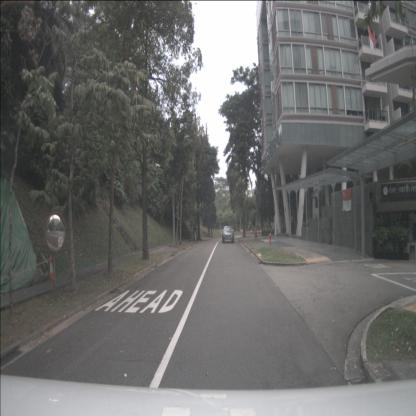cone: (48, 256, 56, 282)
